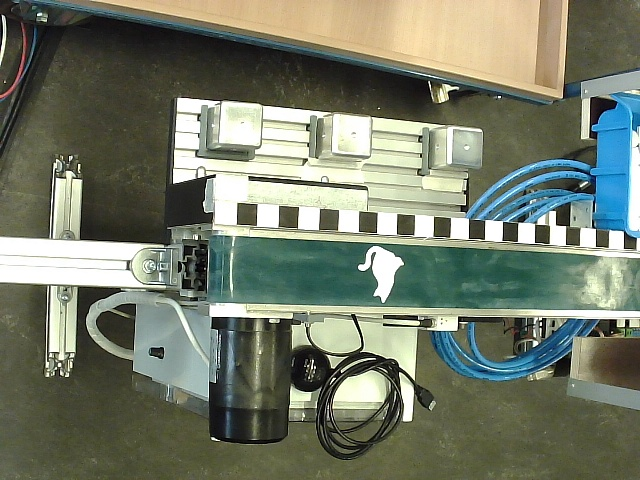cat: (358, 246, 405, 304)
